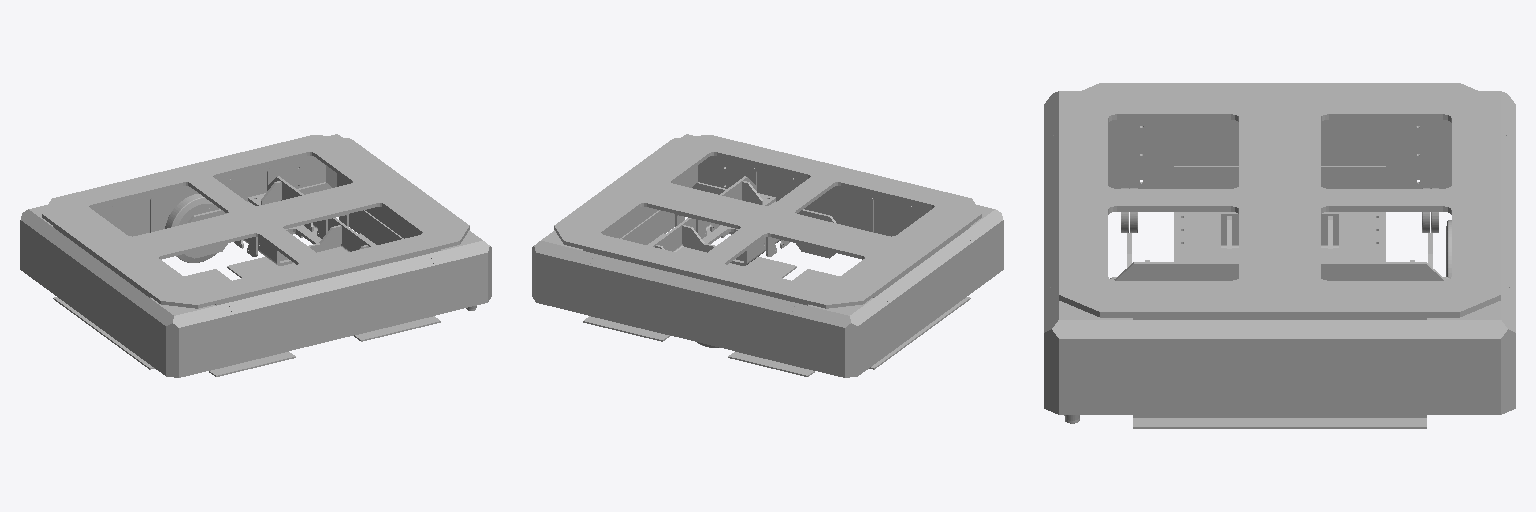
The robot description file, URDF, robot "spmr02":
<?xml version="1.0" encoding="utf-8"?>

<robot name="spmr02">
  <link name="base_link">
    <inertial>
      <origin
        xyz="-0.036333 0.086193 0"
        rpy="0 0 0" />
      <mass value="50" />
      <inertia
        ixx="1.9204"
        ixy="0"
        ixz="0"
        iyy="4.7207"
        iyz="0"
        izz="3.0624" />
    </inertial>
    <visual>
      <origin
        xyz="0 0 0"
        rpy="0 0 0" />
      <geometry>
        <mesh filename="package://spmr02/meshes/base_link.STL" />
      </geometry>
      <material name="">
        <color rgba="0.75294 0.75294 0.75294 1" />
      </material>
    </visual>
    <collision>
      <origin
        xyz="0 0 0"
        rpy="0 0 0" />
      <geometry>
        <mesh filename="package://spmr02/meshes/base_link.STL" />
      </geometry>

      <surface>
        <friction>
          <ode>
            <mu>0.001</mu>
            <mu2>0.001</mu2>
          </ode>
        </friction>
      </surface>

    </collision>
  </link>

  <link name="right_wheel_link">
    <inertial>
      <origin
        xyz="-0.026126 0 0"
        rpy="0 0 0" />
      <mass value="2.0043" />
      <inertia
        ixx="0.020935"
        ixy="0"
        ixz="0"
        iyy="0.010841"
        iyz="0"
        izz="0.010841" />
    </inertial>
    <visual>
      <origin
        xyz="0 0 0"
        rpy="0 0 0" />
      <geometry>
        <mesh filename="package://spmr02/meshes/right_wheel_link.STL" />
      </geometry>
      <material name="">
        <color rgba="0.75294 0.75294 0.75294 1" />
      </material>
    </visual>
    <collision>
      <origin
        xyz="0 0 0"
        rpy="0 0 0" />
      <geometry>
        <mesh filename="package://spmr02/meshes/right_wheel_link.STL" />
      </geometry>
    </collision>
  </link>

  <joint name="right_wheel_joint" type="continuous">
    <origin
      xyz="0 0.40407 -0.001"
      rpy="1.5708 0 -1.5708" />
    <parent link="base_link" />
    <child link="right_wheel_link" />
    <axis xyz="-1 0 0" />
  </joint>


  <link name="left_wheel_link">
    <inertial>
      <origin
        xyz="-0.026126 0 0"
        rpy="0 0 0" />
      <mass value="2.0043" />
      <inertia
        ixx="0.020935"
        ixy="0"
        ixz="0"
        iyy="0.010841"
        iyz="0"
        izz="0.010841" />
    </inertial>
    <visual>
      <origin
        xyz="0 0 0"
        rpy="0 0 0" />
      <geometry>
        <mesh filename="package://spmr02/meshes/left_wheel_link.STL" />
      </geometry>
      <material name="">
        <color rgba="0.75294 0.75294 0.75294 1" />
      </material>
    </visual>
    <collision>
      <origin
        xyz="0 0 0"
        rpy="0 0 0" />
      <geometry>
        <mesh filename="package://spmr02/meshes/left_wheel_link.STL" />
      </geometry>
    </collision>
  </link>

  <joint name="left_wheel_joint" type="continuous">
    <origin
      xyz="0 -0.40407 -0.001"
      rpy="1.5708 0 1.5708" />
    <parent link="base_link" />
    <child link="left_wheel_link" />
    <axis xyz="1 0 0" />
  </joint>

  <link name="RF_scan_link">
    <inertial>
      <origin
        xyz="0 0 0"
        rpy="0 0 0" />
      <mass value="1" />
      <inertia
        ixx="0"
        ixy="0"
        ixz="0"
        iyy="0"
        iyz="0"
        izz="0" />
    </inertial>
    <visual>
      <origin
        xyz="0 0 0"
        rpy="0 0 0" />
      <geometry>
        <mesh filename="package://spmr02/meshes/RF_scan_link.STL" />
      </geometry>
      <material
        name="">
        <color
          rgba="0.75294 0.75294 0.75294 1" />
      </material>
    </visual>
    <collision>
      <origin
        xyz="0 0 0"
        rpy="0 0 0" />
      <geometry>
        <mesh filename="package://spmr02/meshes/RF_scan_link.STL" />
      </geometry>
    </collision>
  </link>

  <joint name="RF_scan_joint" type="fixed">
    <origin
      xyz="-0.63018 0.50694 -0.10141"
      rpy="-1.5708 0 0.7854" />
    <parent link="base_link" />
    <child link="RF_scan_link" />
    <axis xyz="0 0 0" />
  </joint>

  <link name="LR_scan_link">
    <inertial>
      <origin
        xyz="0 0 0"
        rpy="0 0 0" />
      <mass value="1" />
      <inertia
        ixx="0"
        ixy="0"
        ixz="0"
        iyy="0"
        iyz="0"
        izz="0" />
    </inertial>
    <visual>
      <origin
        xyz="0 0 0"
        rpy="0 0 0" />
      <geometry>
        <mesh filename="package://spmr02/meshes/LR_scan_link.STL" />
      </geometry>
      <material name="">
        <color rgba="0.75294 0.75294 0.75294 1" />
      </material>
    </visual>
    <collision>
      <origin
        xyz="0 0 0"
        rpy="0 0 0" />
      <geometry>
        <mesh filename="package://spmr02/meshes/LR_scan_link.STL" />
      </geometry>
    </collision>
  </link>

  <joint name="LR_scan_joint" type="fixed">
    <origin
      xyz="0.61848 -0.45171 -0.10141"
      rpy="-1.5708 0 -2.3562" />
    <parent link="base_link" />
    <child link="LR_scan_link" />
    <axis xyz="0 0 0" />
  </joint>

  <gazebo>
    <plugin name="gazebo_ros_control" filename="libgazebo_ros_control.so">
        <robotNamespace>/spmr02</robotNamespace>
    </plugin>

    <plugin name="differential_drive_controller" filename="libgazebo_ros_diff_drive.so">
        <alwaysOn>true</alwaysOn>
        <updateRate>100</updateRate>
        <leftJoint>left_wheel_joint</leftJoint>
        <rightJoint>right_wheel_joint</rightJoint>
        <torque>200</torque>
        <commandTopic>test_mr/cmd_val</commandTopic>
        <odometryTopic>/odom</odometryTopic>
        <odometryFrame>odom</odometryFrame>
        <rosDebugLevel>1</rosDebugLevel>
        <publishWheelTF>false</publishWheelTF>
        <publishOdomTF>true</publishOdomTF>
        <publishWheelJointState>false</publishWheelJointState>
        <wheelAcceleration>3</wheelAcceleration>
        <wheelTorque>500</wheelTorque>
        <odometrySource>world</odometrySource>
        <publishTf>1</publishTf>
        <robotBaseFrame>base_link</robotBaseFrame>
        <wheelSeparation>0.8</wheelSeparation>
        <wheelDiameter>0.265</wheelDiameter>
    </plugin>

  </gazebo>

</robot>

--- What the picture shows (computed from the rendered views, not written in the file) ---
The picture shows the robot from 3 angles, left to right: view 1: azimuth 30°, elevation 25°; view 2: azimuth 150°, elevation 25°; view 3: azimuth 270°, elevation 25°; orthographic projection.
Robot: spmr02 — 5 links, 4 joints (2 continuous, 2 fixed); root link base_link; default pose: all joints at 0.
Visible links, largest first — view 1: base_link, left_wheel_link; view 2: base_link; view 3: base_link.
Link boxes in pixels (<box>): base_link: <box>20,134,491,377</box>; left_wheel_link: <box>165,194,226,262</box>; base_link: <box>532,134,1003,377</box>; base_link: <box>1044,83,1515,428</box>.
Size in the robot's own frame: 1.39 by 1.15 by 0.3404 metres.
Meshes: 5 distinct files referenced, 3 mesh visuals loaded (3 binary STL); not drawn: 2 (reference not matched to a file when rendering).
